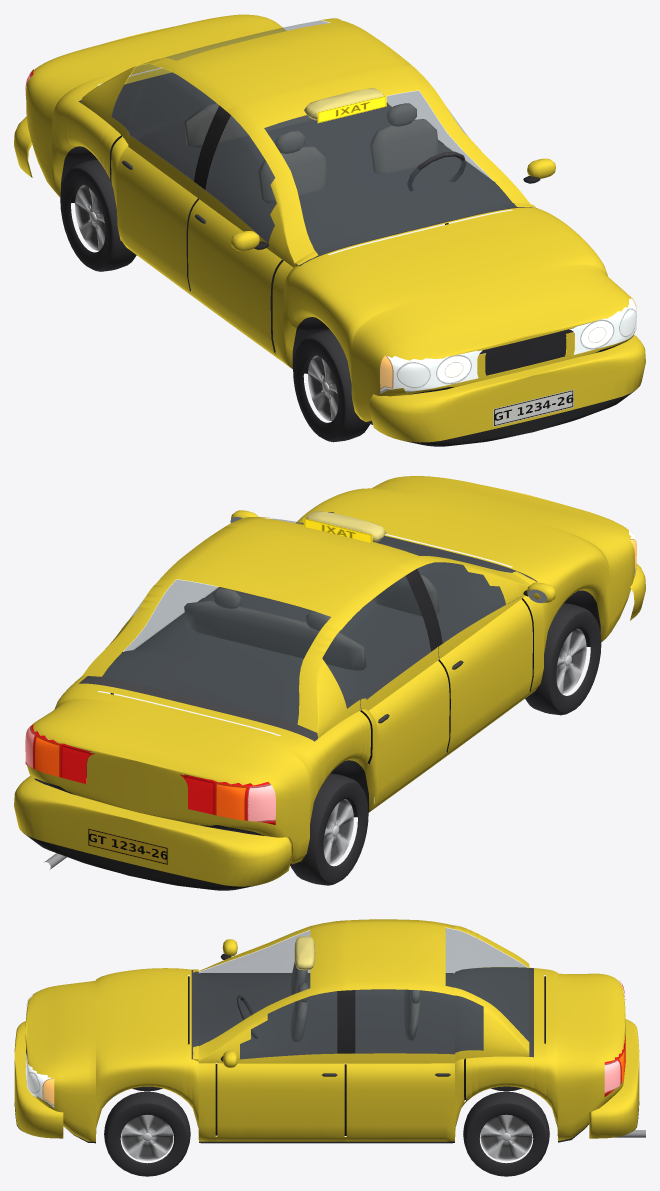
The model's file is accraride_corolla_taxi.glb.
3 renders of one model, top to bottom at view 1: azimuth 30°, elevation 25°; view 2: azimuth 150°, elevation 25°; view 3: azimuth 270°, elevation 25°, orthographic. The views are drawn at different scales.
Visible parts, largest first — view 1: Body, Window_Windscreen, Bumper_Front, Door_FR, Door_RR, Interior, Window_RR, Wheel_FR, Wheel_RR, Window_FR, Headlight_R, Grille (+5 smaller); view 2: Body, Window_Rear, Bumper_Rear, Door_FR, Door_RR, Window_RR, Interior, Wheel_RR, Wheel_FR, Window_FR, Taillight_R, Taillight_L (+3 smaller); view 3: Body, Door_FL, Door_RL, Window_RL, Window_Windscreen, Wheel_FL, Wheel_RL, Window_Rear, Window_FL, Bumper_Rear, Bumper_Front, Interior (+3 smaller).
Boxes of the visible parts, left/top/right/bottom form: Body: left=26, top=14, right=635, bottom=424; Window_Windscreen: left=265, top=91, right=515, bottom=254; Bumper_Front: left=369, top=335, right=645, bottom=446; Door_FR: left=188, top=187, right=282, bottom=352; Door_RR: left=111, top=126, right=198, bottom=291; Interior: left=184, top=101, right=466, bottom=203; Window_RR: left=112, top=64, right=218, bottom=180; Wheel_FR: left=293, top=330, right=370, bottom=442; Wheel_RR: left=60, top=159, right=136, bottom=271; Window_FR: left=206, top=116, right=276, bottom=242; Headlight_R: left=380, top=350, right=482, bottom=393; Grille: left=479, top=329, right=572, bottom=375; Body: left=27, top=476, right=634, bottom=865; Window_Rear: left=102, top=580, right=330, bottom=724; Bumper_Rear: left=14, top=776, right=293, bottom=890; Door_FR: left=438, top=597, right=532, bottom=752; Door_RR: left=360, top=648, right=449, bottom=804; Window_RR: left=322, top=576, right=430, bottom=707; Interior: left=184, top=512, right=439, bottom=670; Wheel_RR: left=290, top=773, right=368, bottom=885; Wheel_FR: left=525, top=603, right=601, bottom=715; Window_FR: left=417, top=563, right=505, bottom=642; Taillight_R: left=180, top=774, right=275, bottom=824; Taillight_L: left=25, top=725, right=93, bottom=784; Body: left=25, top=919, right=625, bottom=1143; Door_FL: left=217, top=1053, right=344, bottom=1137; Door_RL: left=346, top=1050, right=464, bottom=1137; Window_RL: left=355, top=990, right=483, bottom=1053; Window_Windscreen: left=193, top=931, right=309, bottom=1046; Wheel_FL: left=104, top=1091, right=190, bottom=1176; Wheel_RL: left=463, top=1091, right=549, bottom=1176; Window_Rear: left=446, top=928, right=528, bottom=1040; Window_FL: left=240, top=991, right=336, bottom=1058; Bumper_Rear: left=589, top=1019, right=639, bottom=1138; Bumper_Front: left=14, top=1021, right=63, bottom=1138; Interior: left=236, top=962, right=420, bottom=1041.
Size of the model in its own units: 2.08 by 1.47 by 4.58.
Materials: 22 (5 with a texture image).
